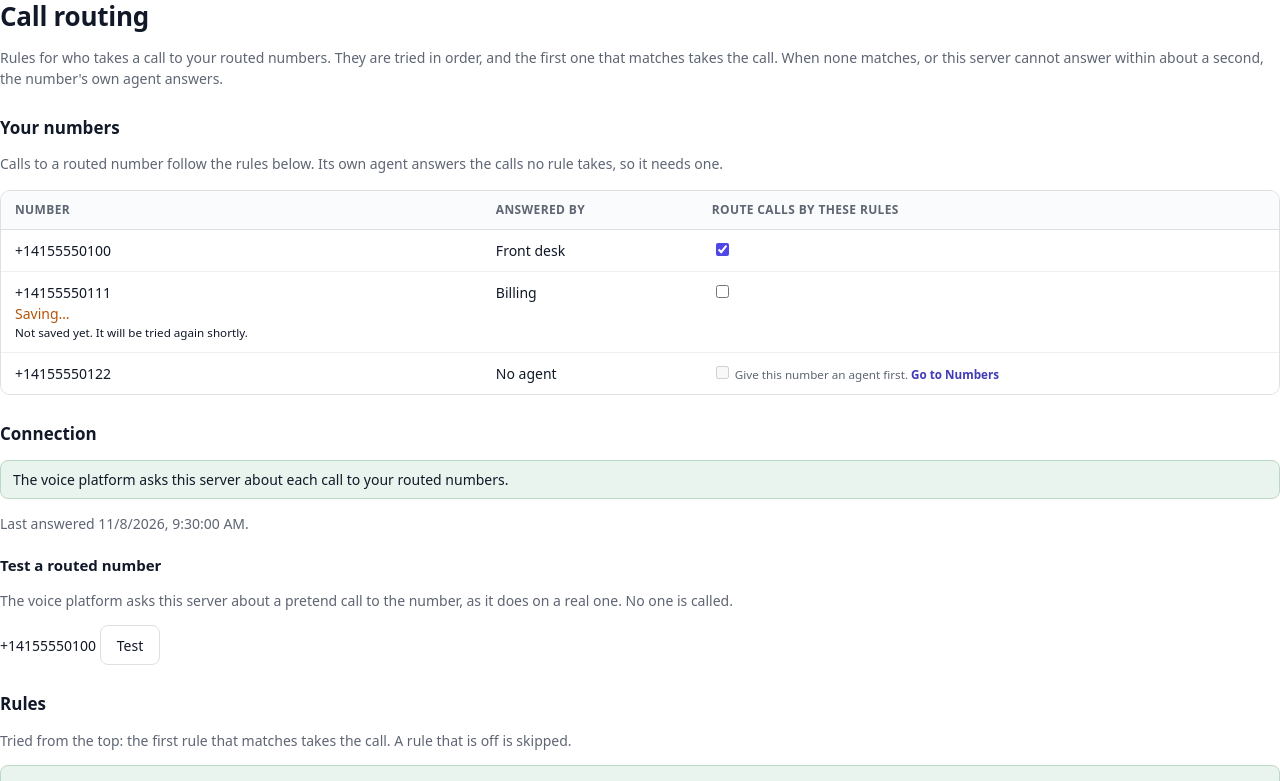
Test: call routing: the connection and the platform's test › says a refused test in the backend's words (409, 429, 502)
The image size is (1280, 781).
Expected: the heading "Rules" is shown, x1=0 y1=692 x2=46 y2=715
Click the button with aria-label "Test +14155550100" at (130, 645), box x1=100 y1=625 x2=160 y2=665
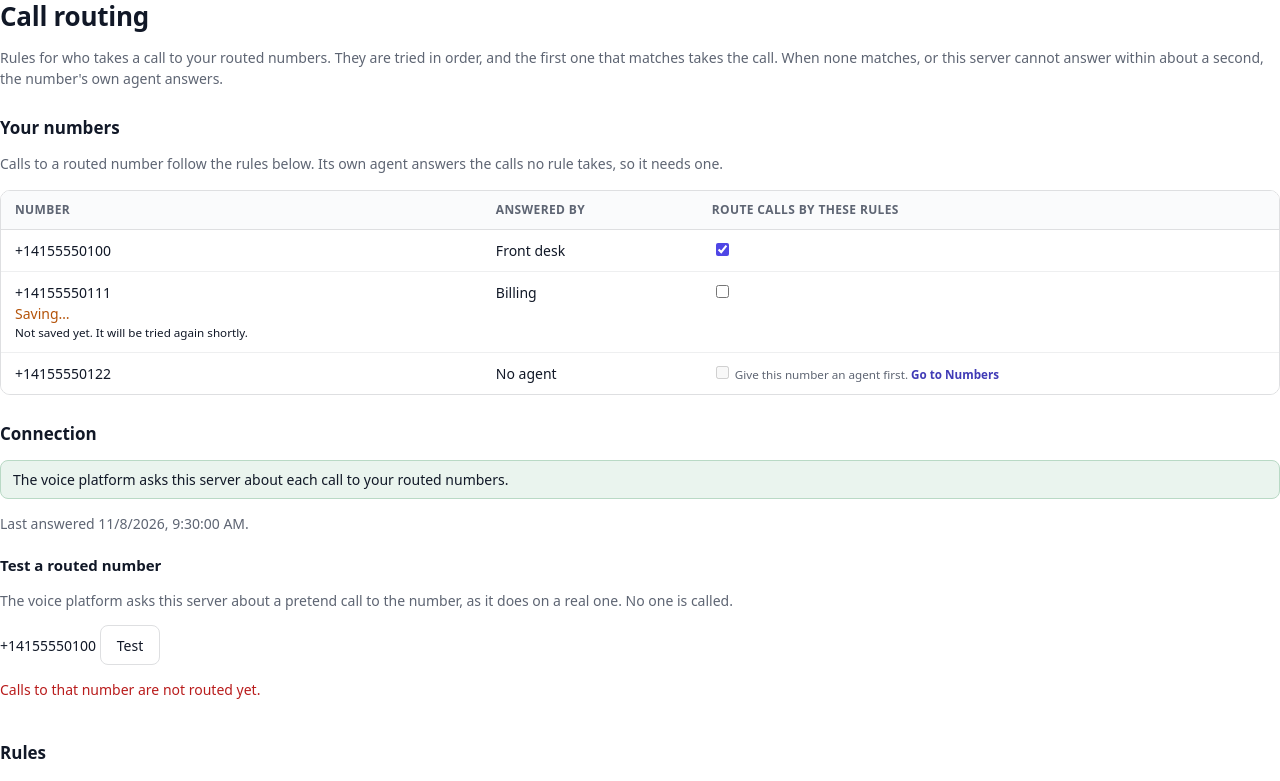
Result: the message reads "Calls to that number are not routed yet." at x1=0 y1=680 x2=260 y2=699
Click the button with aria-label "Test +14155550100" at (130, 645), box x1=100 y1=625 x2=160 y2=665
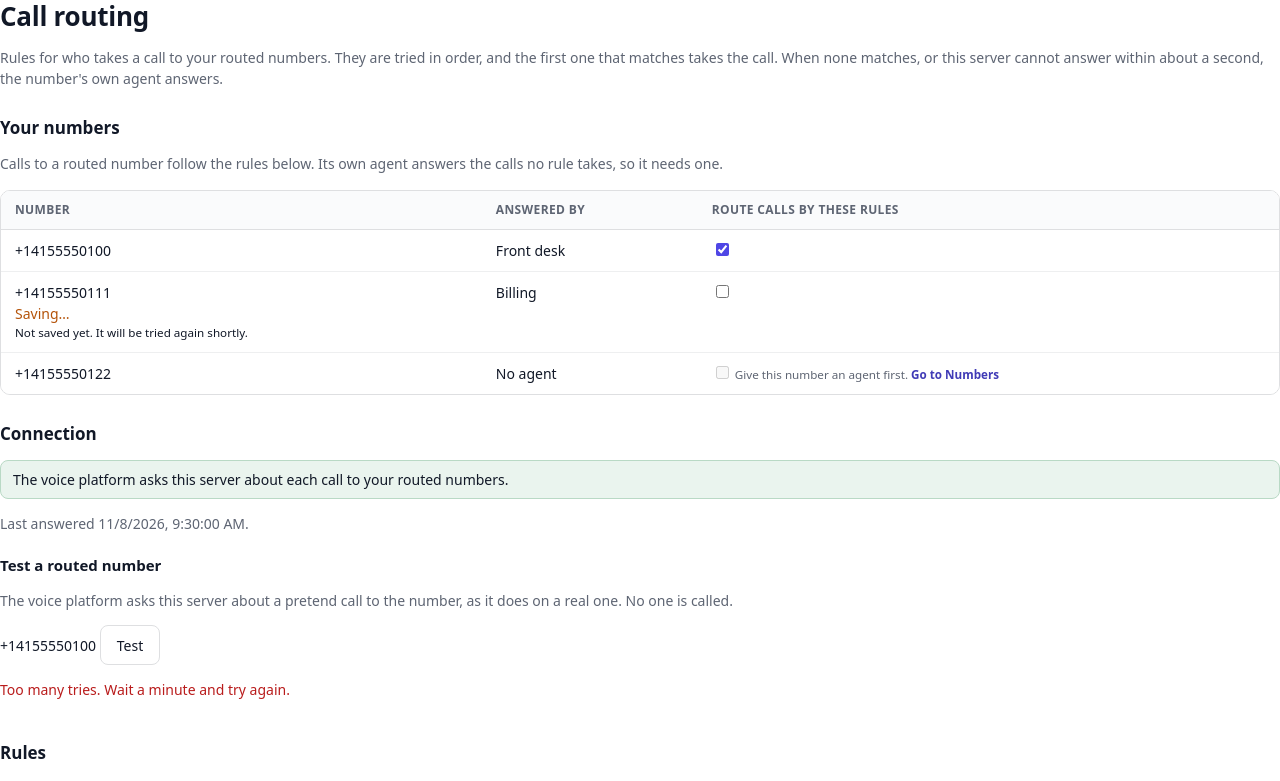
Result: the message reads "Too many tries. Wait a minute and try again." at x1=0 y1=680 x2=290 y2=699
Click the button with aria-label "Test +14155550100" at (130, 645), box x1=100 y1=625 x2=160 y2=665
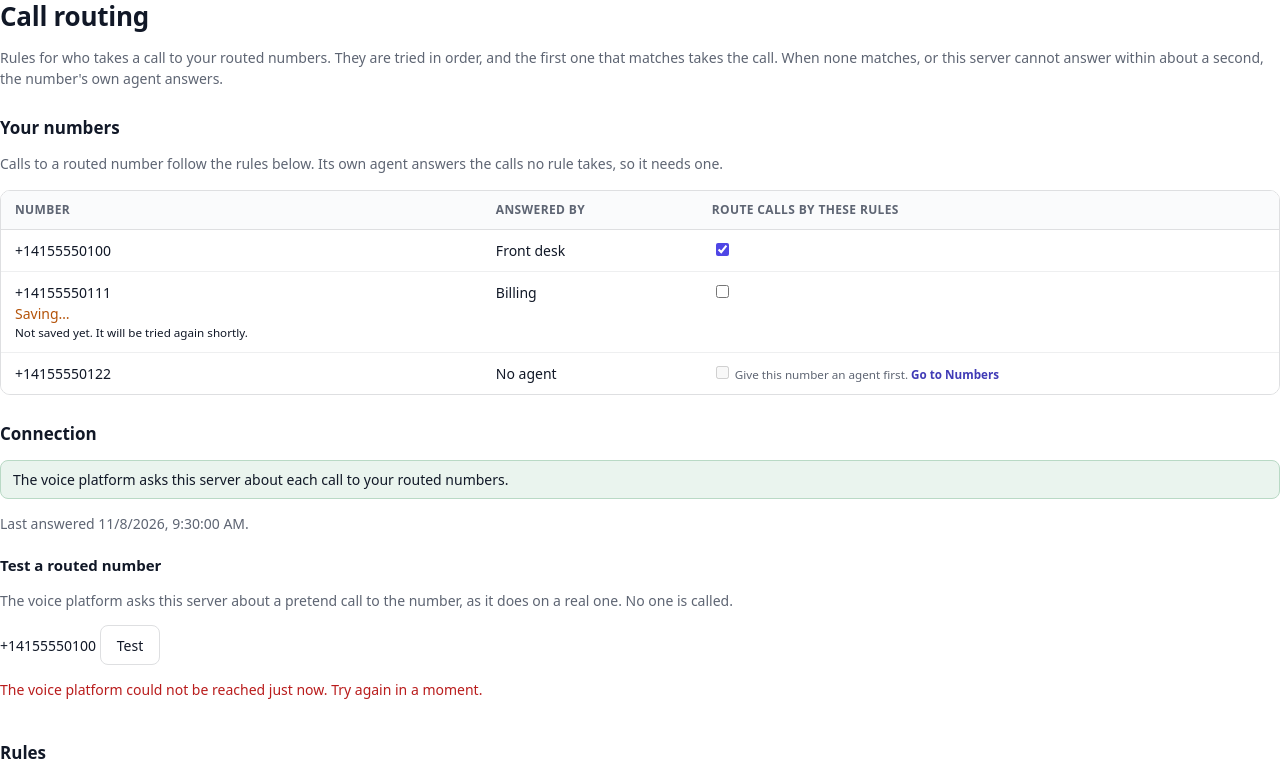
Result: the message reads "The voice platform could not be reached just now. Try again in a moment." at x1=0 y1=680 x2=482 y2=699
